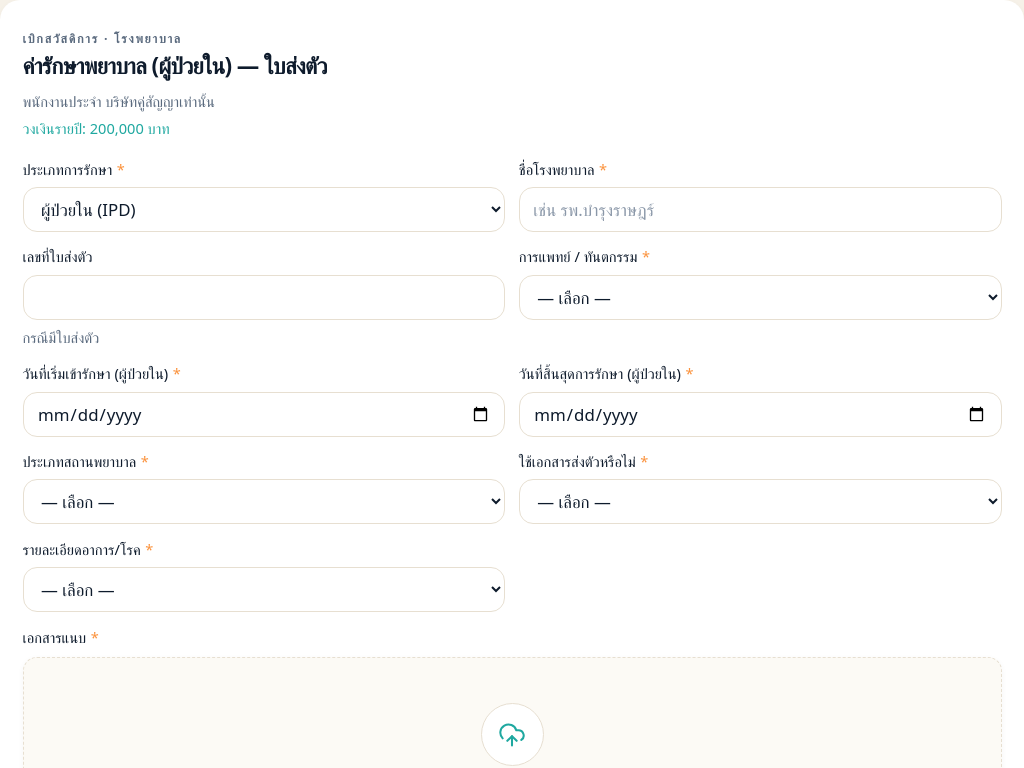
Test: HospitalClaimForm › hides Admitted dates when admission is switched to OPD
The image size is (1024, 768).
Select "ผู้ป่วยนอก (OPD)" in the dropdown labelled "ประเภทการรักษา*". click: [264, 209]
box: [22,187,505,232]
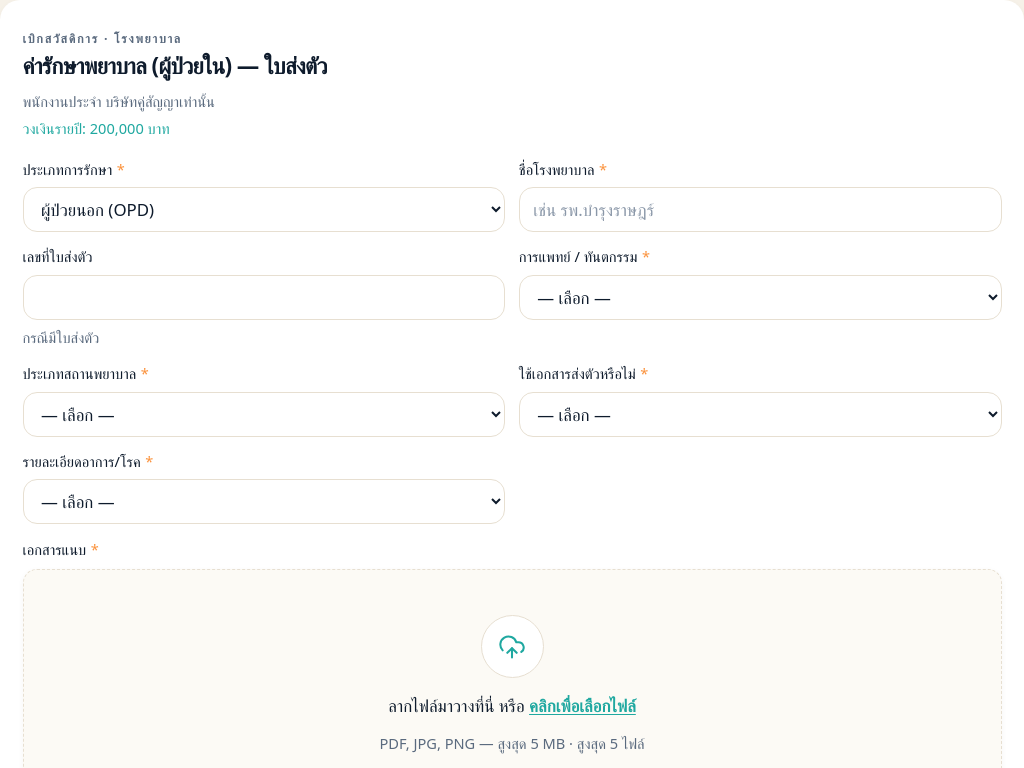
Expected: the label labelled "วันที่เริ่มเข้ารักษา" is gone
